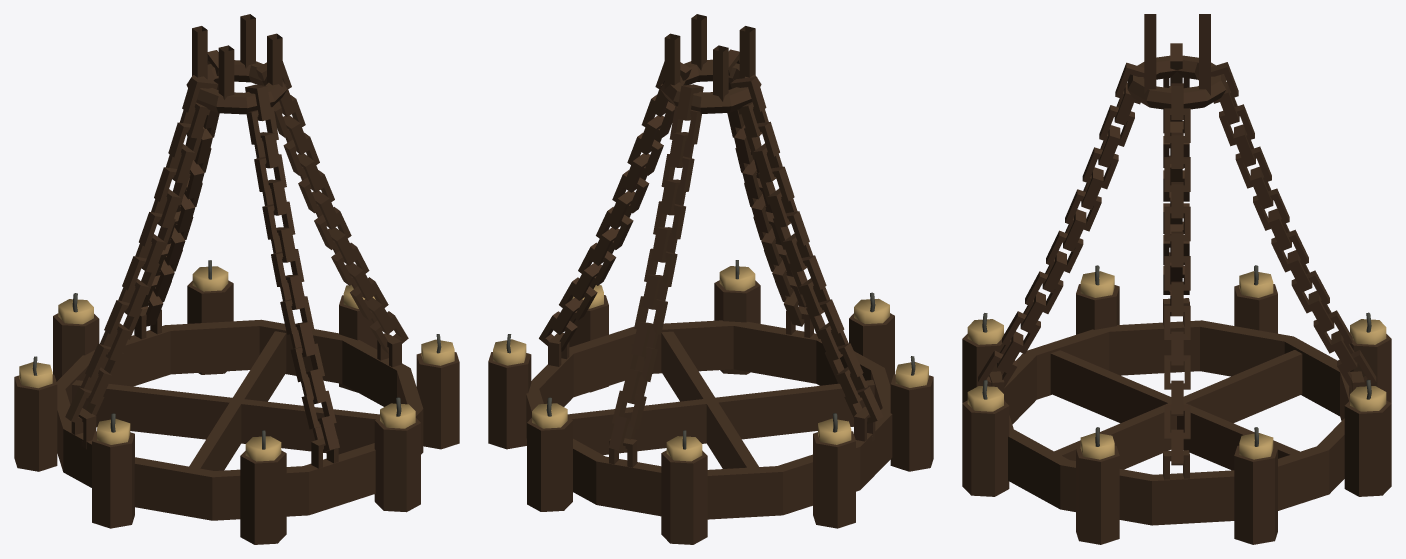
The model's file is Chandelier.glb.
3 views of the same model, side by side, from view 1: azimuth 30°, elevation 25°; view 2: azimuth 150°, elevation 25°; view 3: azimuth 270°, elevation 25° (orthographic). The views are drawn at different scales.
Visible parts, largest first — view 1: Chandelier.001; view 2: Chandelier.001; view 3: Chandelier.001.
Boxes of the visible parts, x1,y1,x2,y2 form: Chandelier.001: (14, 14, 459, 544); Chandelier.001: (488, 14, 933, 544); Chandelier.001: (962, 14, 1391, 544).
Size of the model in its own units: 1.43 by 1.56 by 1.43.
2 materials, 2 textured.
